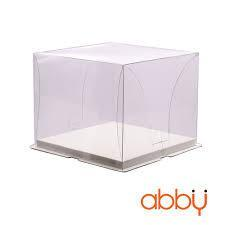box: (28, 41, 203, 174)
